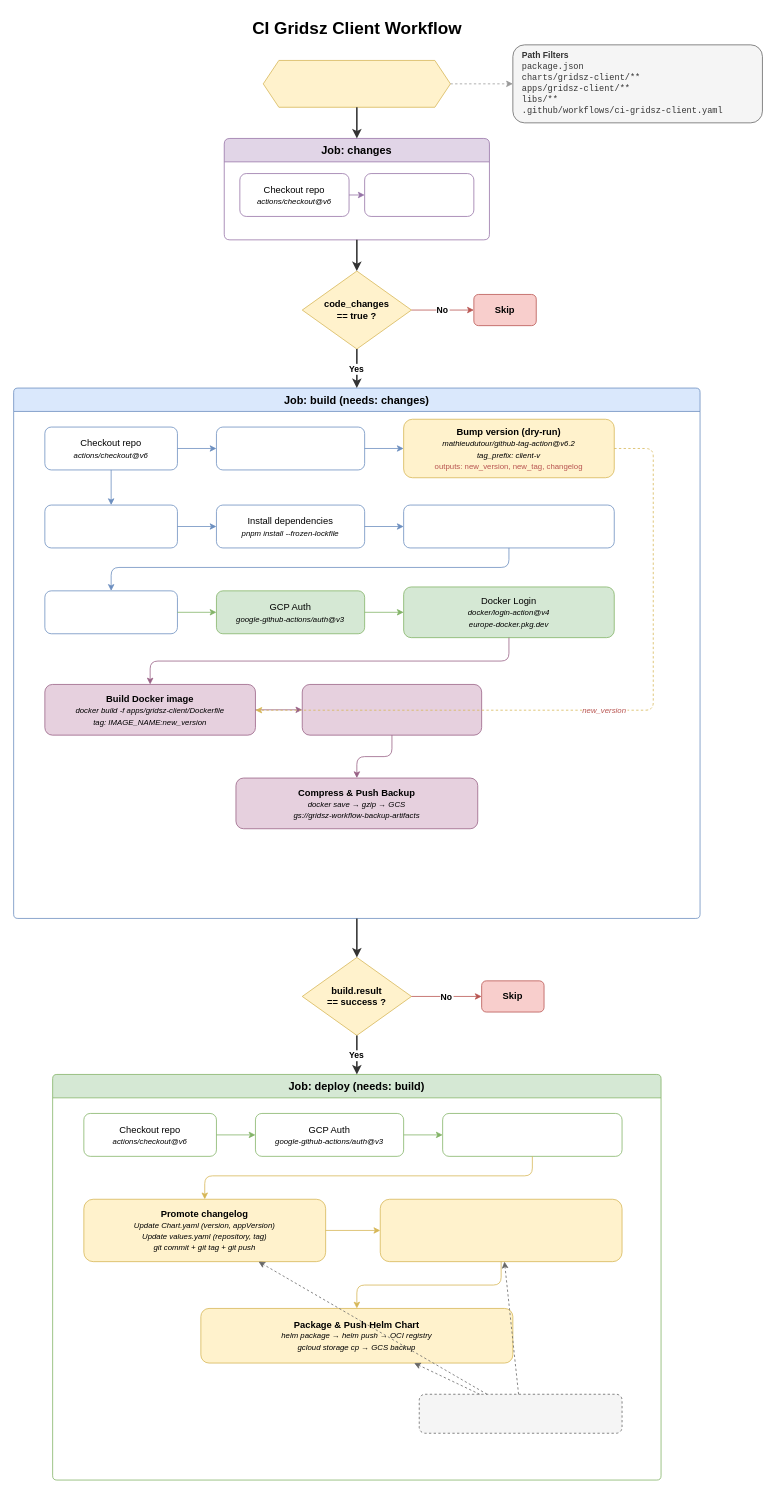
Some shapes in this 776 by 1494 pixel diagram are drawn without their labels. The shapes that lost their labels are listed below. From the top down, each one's centre as x and y in pixels, then its label:
At (356,83): "Trigger push to master".
At (419,194): "Detect changes dorny/paths-filter@v4".
At (290,448): "Install pnpm pnpm/action-setup@v5 (v10)".
At (110,526): "Setup Node.js 22.18.0 actions/setup-node@v6".
At (508,526): "NX Build gridsz-client mansagroup/nrwl-nx-action@v3".
At (110,612): "Compress project npm run compress".
At (391,709): "Push Docker image docker push → europe-docker.pkg.dev".
At (532,1134): "Docker Login docker/login-action@v4".
At (500,1230): "Create GitHub Release actions/create-release@v1 tag: new_tag, body: changelog".
At (520,1413): "Inputs from build job new_version , new_tag , changelog".
